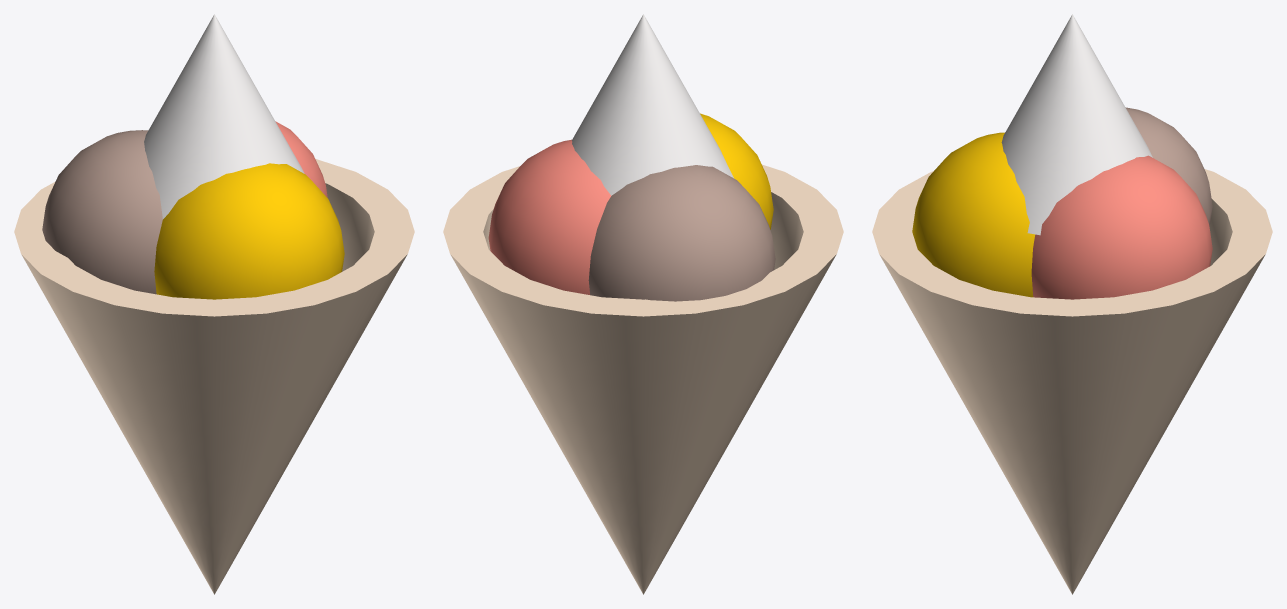
3 renders of one model, left to right at view 1: azimuth 30°, elevation 25°; view 2: azimuth 150°, elevation 25°; view 3: azimuth 270°, elevation 25°, orthographic.
Visible parts, largest first — view 1: Object_4, Object_8, Object_12, Object_6, Object_10; view 2: Object_4, Object_6, Object_12, Object_10, Object_8; view 3: Object_4, Object_10, Object_12, Object_8, Object_6.
Part boxes in pixels (bbox=[...]): Object_4: bbox=[14, 159, 414, 594]; Object_8: bbox=[154, 163, 344, 299]; Object_12: bbox=[144, 14, 304, 218]; Object_6: bbox=[42, 130, 162, 294]; Object_10: bbox=[275, 121, 327, 197]; Object_4: bbox=[443, 164, 843, 594]; Object_6: bbox=[588, 165, 775, 301]; Object_12: bbox=[572, 14, 733, 195]; Object_10: bbox=[488, 139, 611, 294]; Object_8: bbox=[700, 113, 773, 229]; Object_4: bbox=[872, 169, 1272, 594]; Object_10: bbox=[1031, 155, 1212, 299]; Object_12: bbox=[1001, 14, 1152, 235]; Object_8: bbox=[912, 132, 1035, 297]; Object_6: bbox=[1125, 107, 1212, 226].
Bounding box in the file's own units: 2 × 3.2 × 2.
